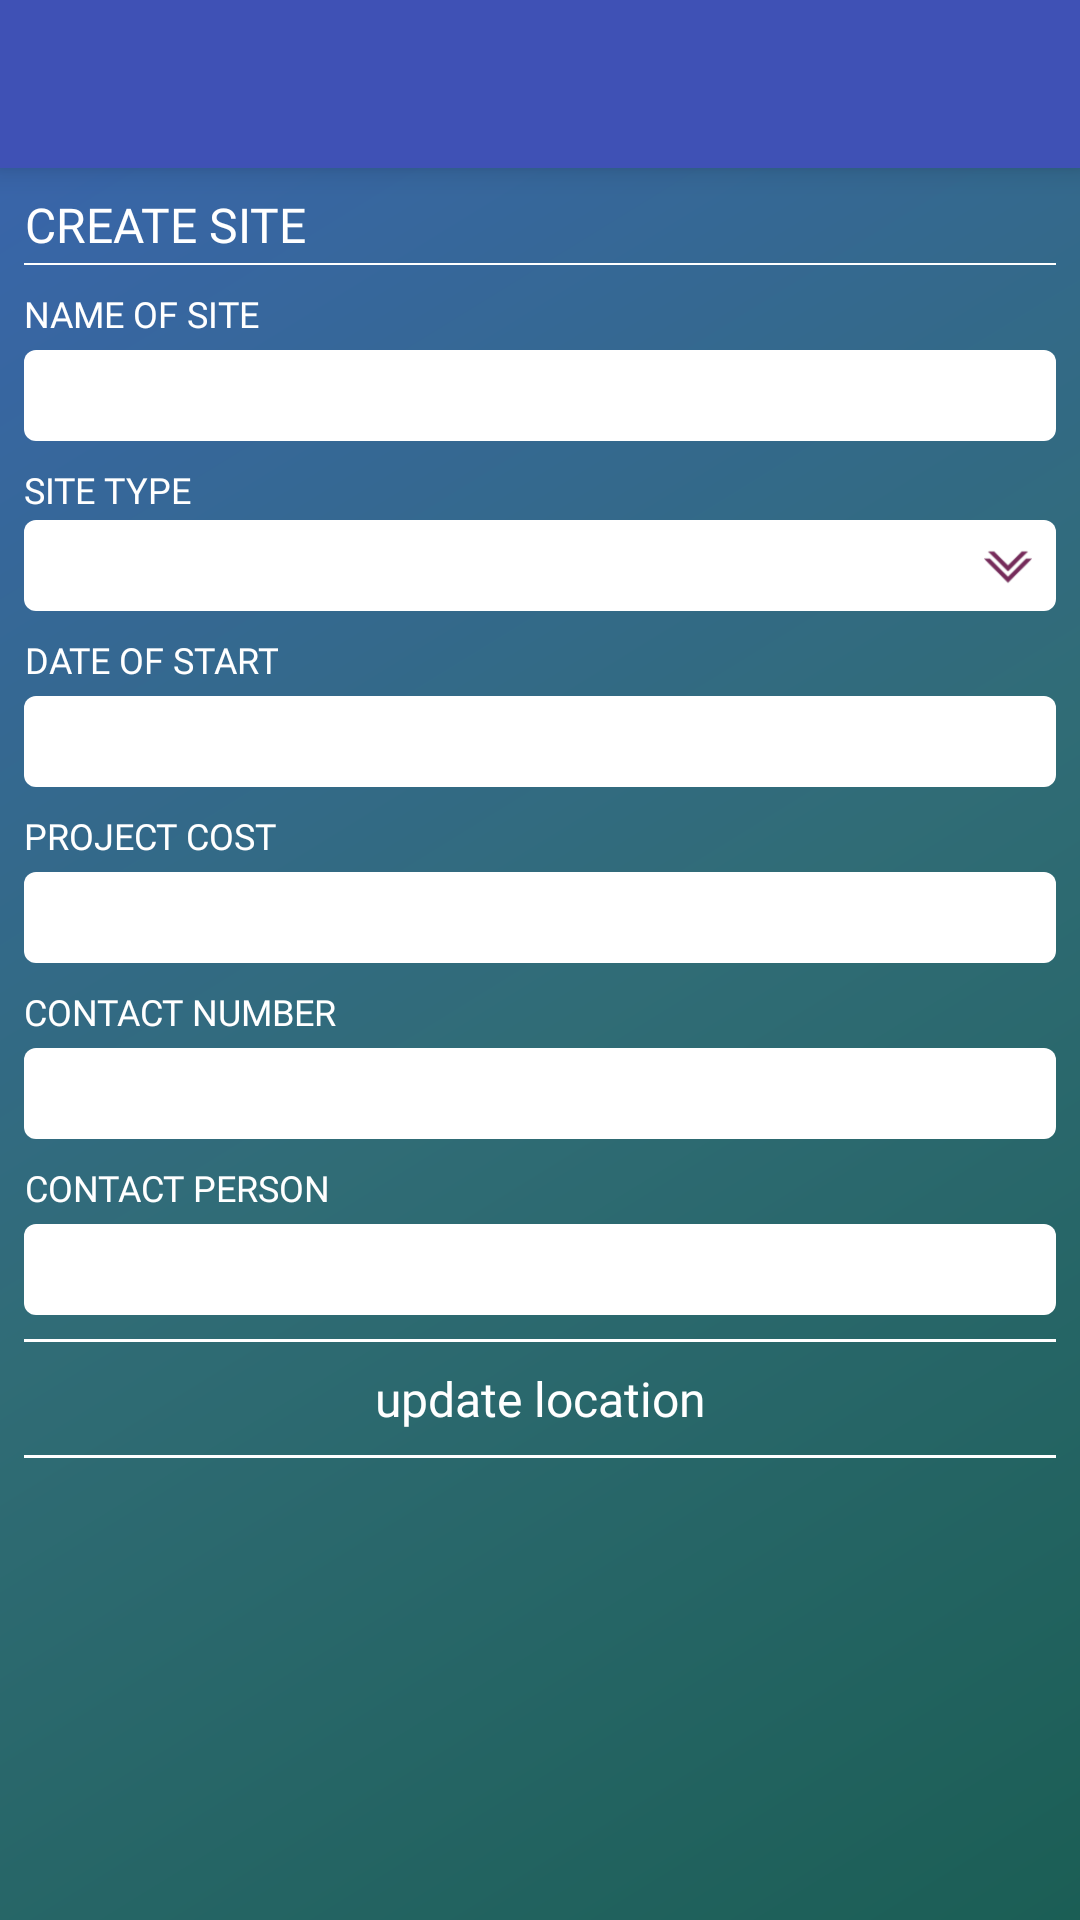

Icons on this 1080 × 1920 Android screen, each with the point to tap as [x,y]:
down arrow: [1008,567]
